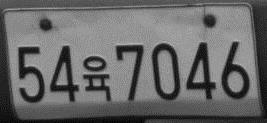0: (151, 42, 181, 100)
4: (47, 44, 81, 103), (184, 40, 217, 100)
5: (17, 45, 45, 103)
6: (220, 40, 251, 100)
7: (115, 43, 145, 103)
육: (81, 54, 112, 103)
